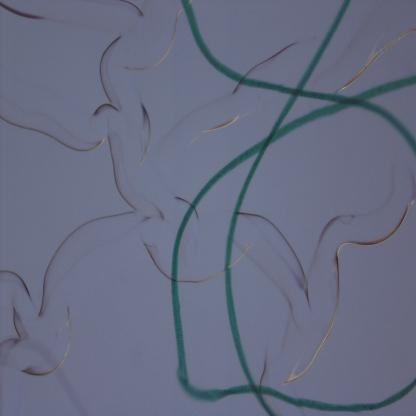Background material: (260, 171, 410, 365), (0, 90, 148, 271), (0, 260, 91, 385), (335, 16, 416, 92), (122, 5, 185, 76), (89, 27, 124, 123), (0, 0, 67, 34), (176, 266, 224, 290), (116, 1, 158, 27), (144, 242, 172, 281), (174, 194, 192, 206)
Microfibre: (161, 73, 416, 408), (224, 1, 352, 415), (181, 1, 416, 155)
